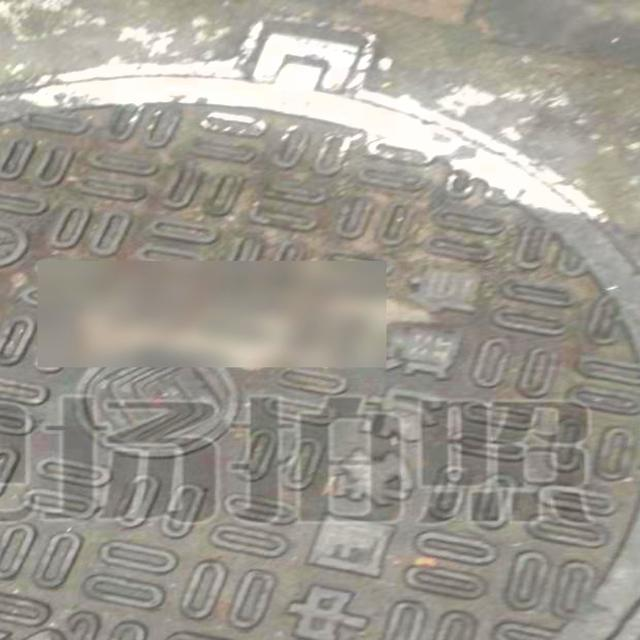good: (0, 12, 640, 640)
